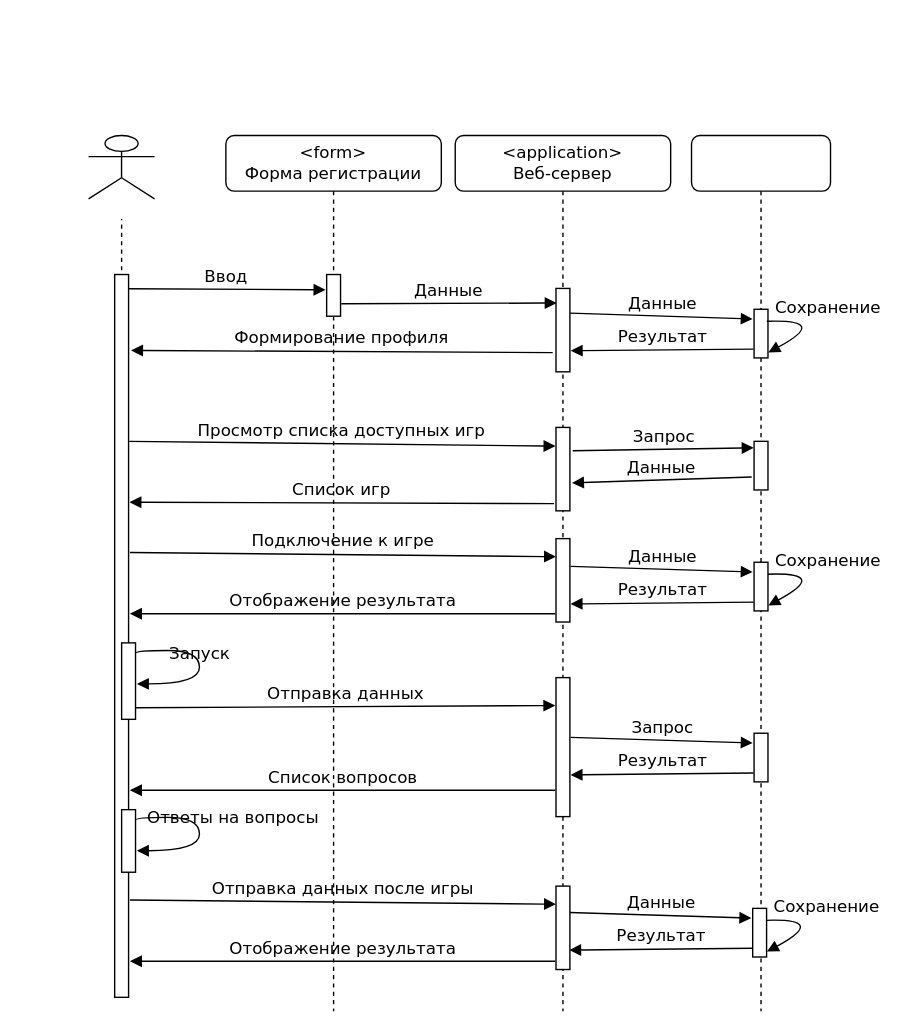
Some shapes in this 905 by 1036 pixel diagram are drawn without their labels. Each missing label, with the centre of its shape:
:База данных: the point at 760,572
Пользователь: the point at 121,166
